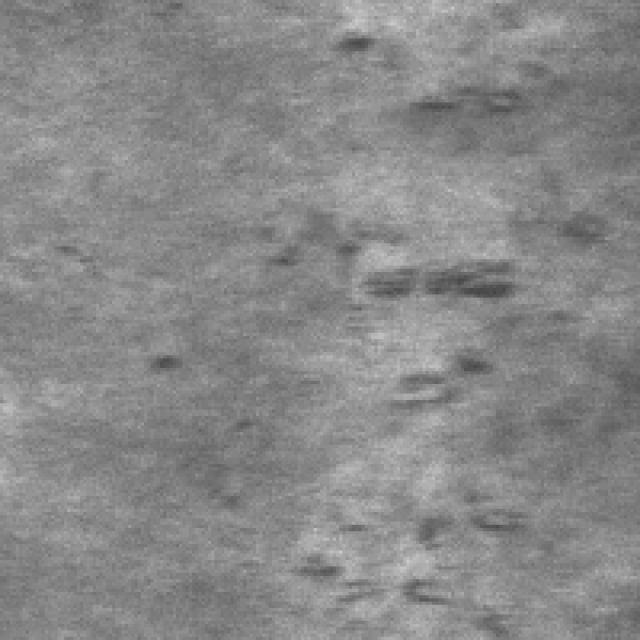rolled-in_scale: (294, 291, 525, 627), (362, 42, 570, 304), (342, 19, 580, 125)
